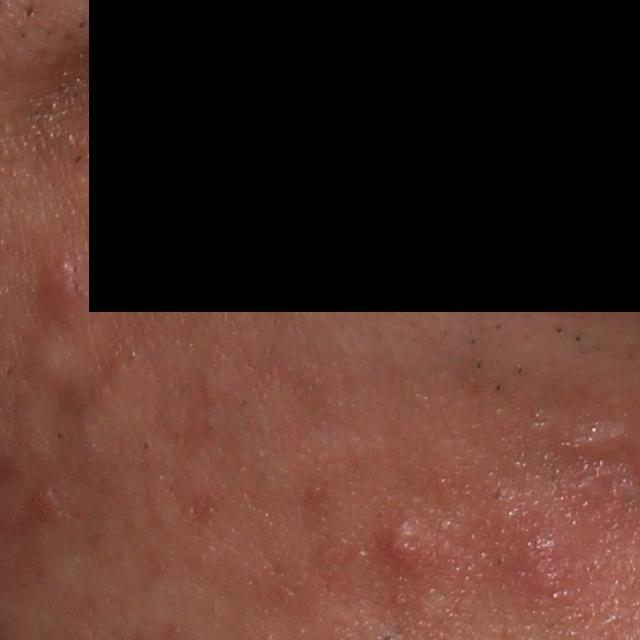hypertrophic_scar: (17, 334, 93, 387), (563, 423, 633, 455)
papule: (511, 532, 578, 606), (32, 242, 90, 314), (382, 507, 431, 568), (30, 485, 58, 523)
